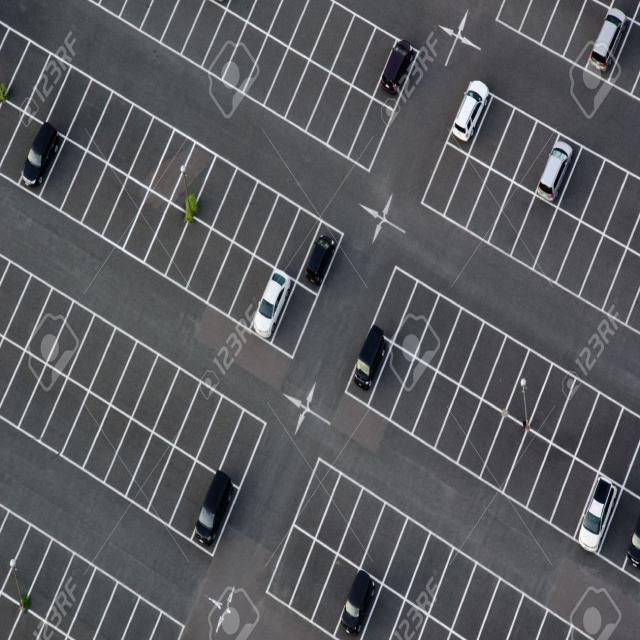libre: (0, 19, 327, 320), (363, 268, 640, 544), (0, 254, 269, 538), (264, 456, 604, 639), (89, 0, 398, 172), (418, 98, 639, 334), (0, 501, 194, 639), (490, 0, 613, 67), (609, 0, 638, 107)
ocupado: (570, 462, 623, 566), (331, 321, 394, 401), (188, 465, 238, 565), (242, 266, 297, 348), (11, 116, 63, 199), (583, 3, 630, 89), (376, 28, 424, 110), (334, 560, 381, 639), (451, 70, 496, 147), (534, 125, 575, 207), (301, 217, 346, 291)
